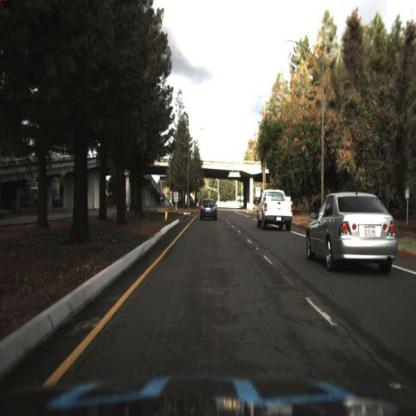car: (302, 182, 404, 278), (256, 179, 299, 239), (195, 190, 223, 226)
